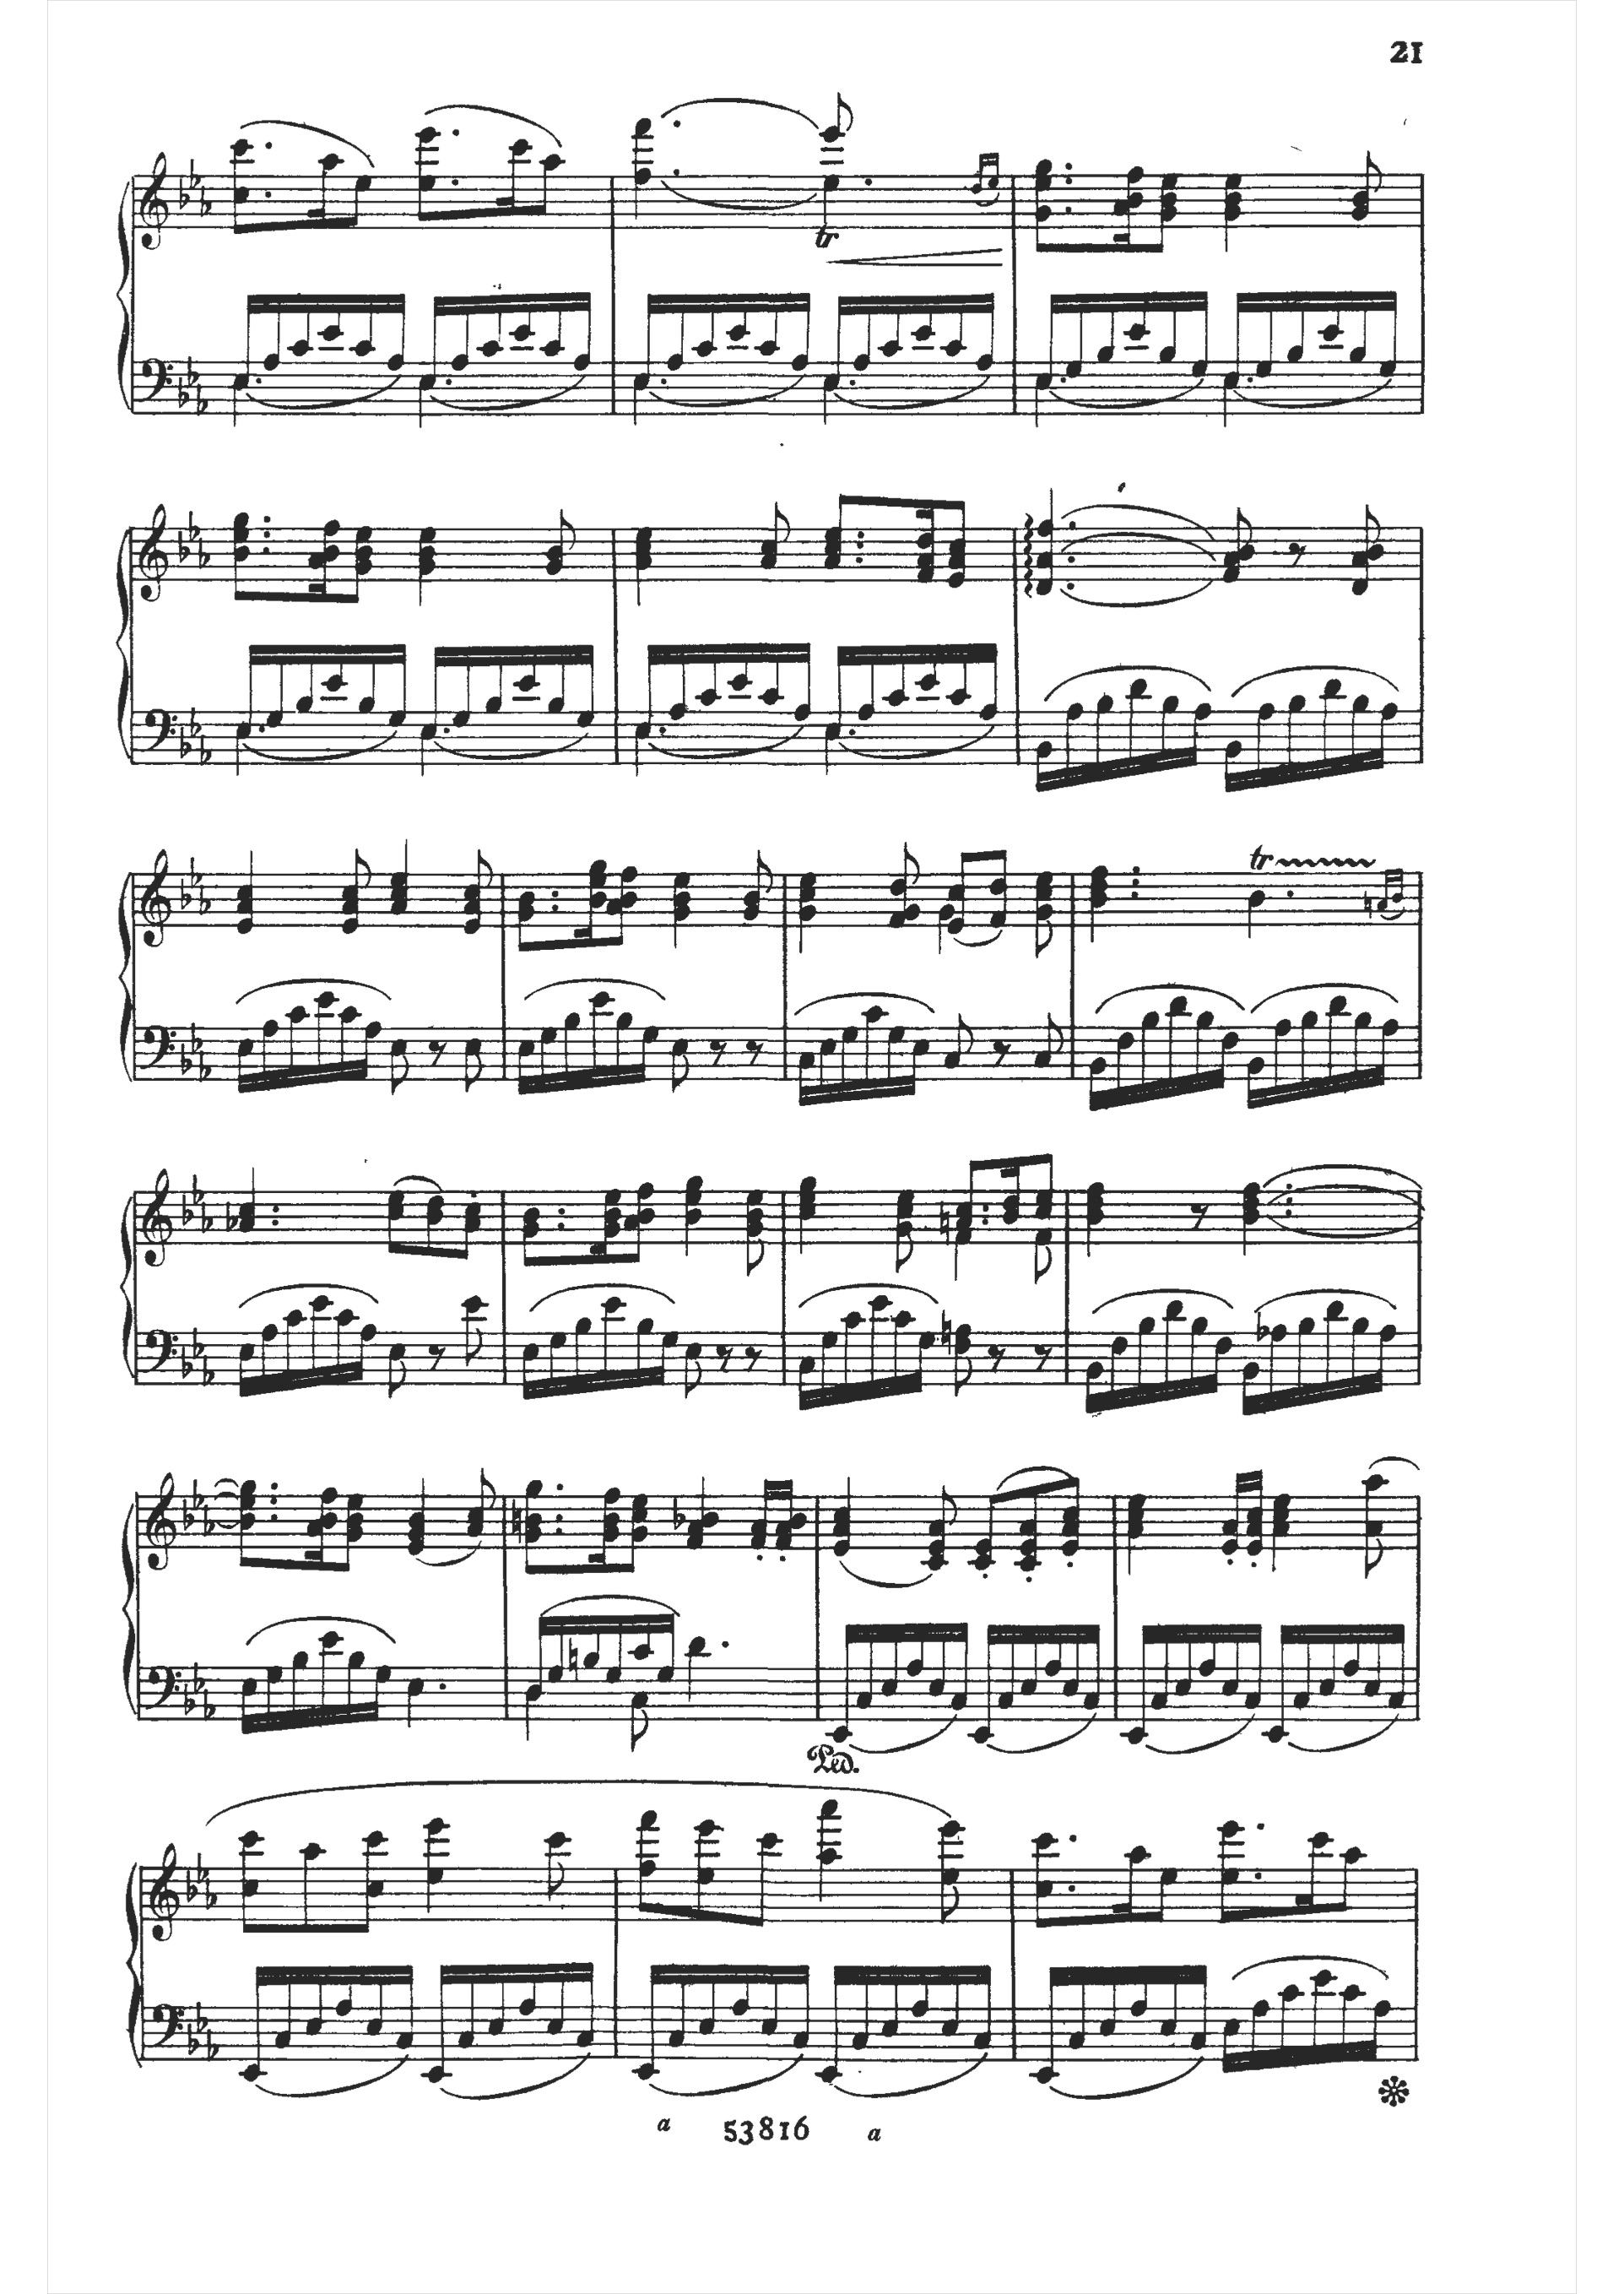bass_clef: (141, 1651, 181, 1721), (139, 1324, 181, 1387), (137, 1023, 179, 1079), (139, 346, 174, 413), (139, 701, 179, 759), (148, 1995, 185, 2057)
flat: (199, 1686, 223, 1724), (170, 373, 193, 413), (199, 1503, 221, 1543), (195, 1354, 220, 1390), (195, 730, 216, 772), (193, 1046, 214, 1088), (193, 380, 211, 429), (193, 1995, 214, 2036), (183, 2020, 202, 2064), (174, 726, 195, 765), (188, 1327, 211, 1362), (188, 1018, 207, 1058), (181, 1867, 200, 1907), (190, 1853, 214, 1884), (195, 183, 214, 221), (185, 352, 204, 390), (188, 1475, 207, 1514), (202, 1876, 221, 1914), (190, 1661, 211, 1696), (206, 2029, 223, 2069), (197, 531, 213, 575), (183, 1681, 199, 1724), (181, 1343, 197, 1385), (190, 701, 207, 738), (190, 1169, 207, 1206), (185, 508, 204, 541), (186, 854, 204, 888), (178, 1042, 195, 1076), (176, 176, 192, 213), (174, 533, 192, 564), (199, 882, 214, 918), (199, 1201, 214, 1236), (186, 158, 202, 192), (179, 1499, 195, 1533), (179, 1192, 193, 1229), (179, 879, 192, 911)
treble_clef: (142, 1832, 185, 1949), (134, 144, 174, 257), (141, 1466, 181, 1579), (137, 496, 176, 603), (141, 1162, 176, 1274), (139, 844, 174, 953)
